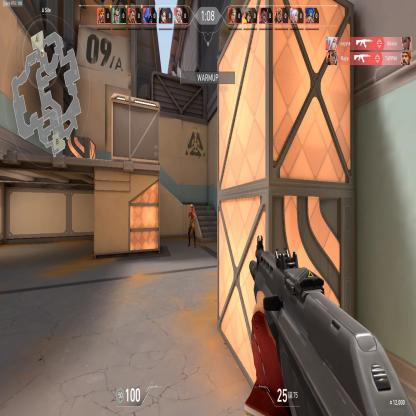enemy: (186, 202, 197, 249)
